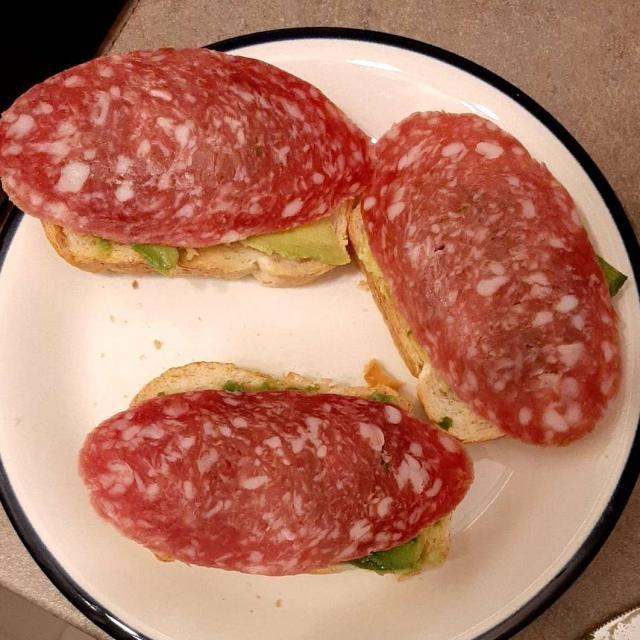avocado: (103, 214, 434, 578)
bread: (50, 213, 473, 429)
salami: (0, 57, 615, 599)
